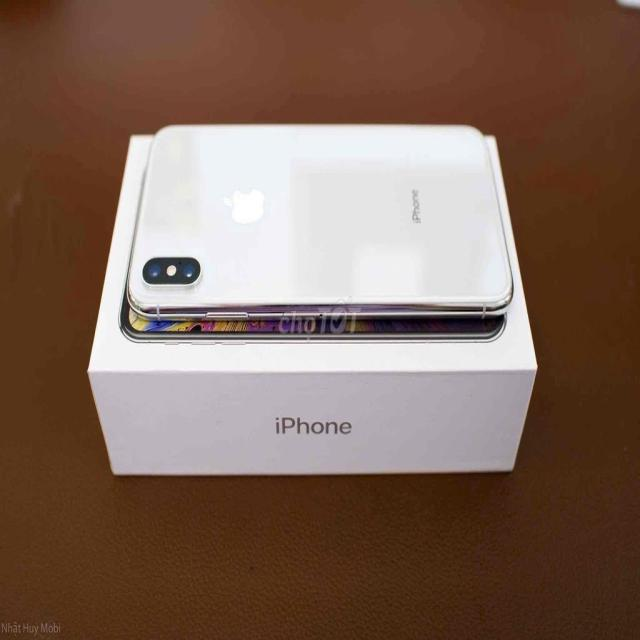gen_x_xs: (101, 72, 545, 379)
